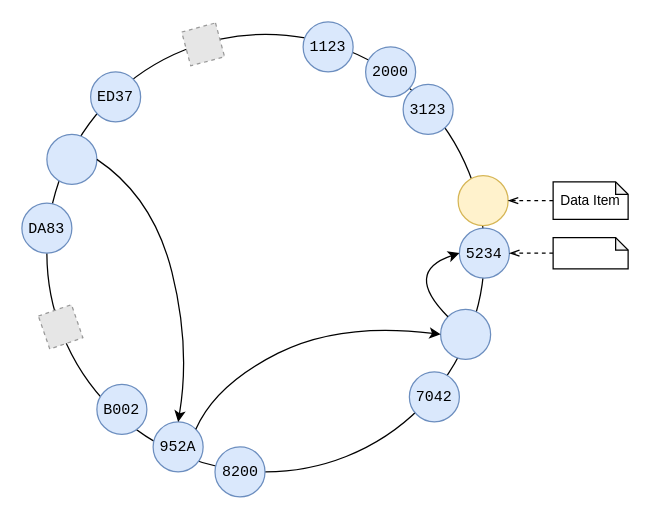
Image size: 650x519. Some labels were removed from this diagram. Grey dashed boxes stand in for pictures. The box of each missing label's shape, as (x1, y1, x2, y2) in pixels:
51AC: (457, 174, 508, 226)
5DC0: (439, 308, 491, 359)
E299: (46, 133, 97, 184)
Peer: (552, 236, 628, 269)
